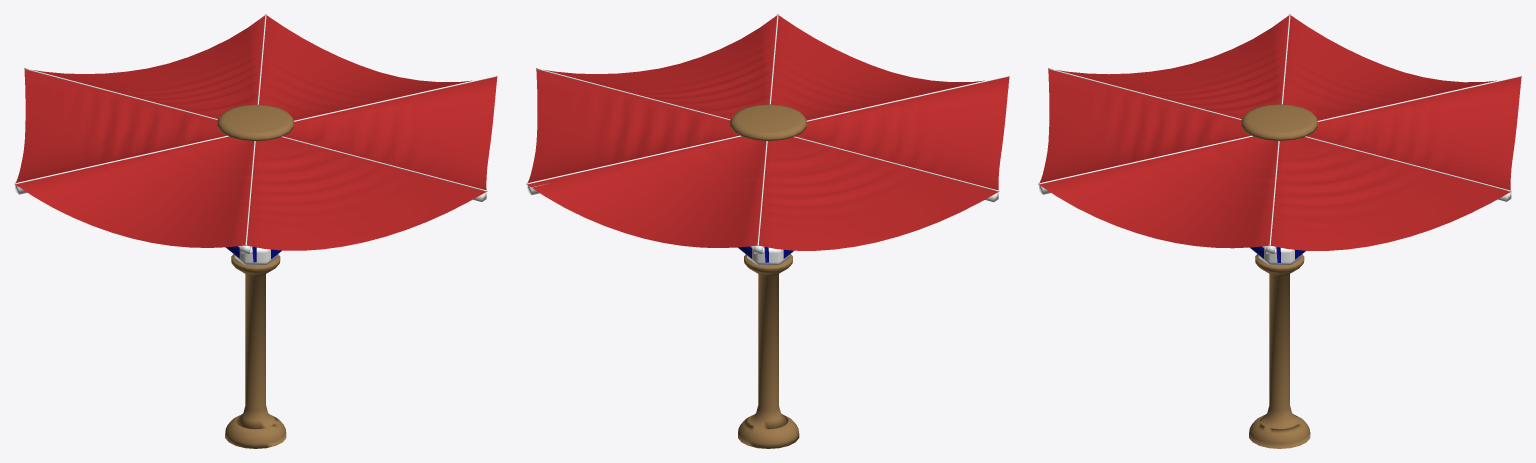
Rendered from PatioUmbrella.fbx.
The picture shows the model from 3 angles, left to right: view 1: azimuth 30°, elevation 25°; view 2: azimuth 150°, elevation 25°; view 3: azimuth 270°, elevation 25°; orthographic projection.
Parts seen in each view (by area): view 1: Object_2, Object_7, Object_3, Object_4; view 2: Object_2, Object_7, Object_3, Object_4; view 3: Object_2, Object_7, Object_3.
Boxes of the visible parts, x1,y1,x2,y2 form: Object_2: [15, 15, 497, 250]; Object_7: [217, 104, 293, 448]; Object_3: [14, 14, 497, 245]; Object_4: [234, 246, 276, 264]; Object_2: [527, 15, 1009, 250]; Object_7: [730, 104, 806, 448]; Object_3: [526, 14, 1009, 245]; Object_4: [747, 246, 789, 265]; Object_2: [1039, 15, 1521, 250]; Object_7: [1241, 104, 1317, 448]; Object_3: [1038, 14, 1521, 245].
Bounding box in the file's own units: 375 × 240 × 332.
